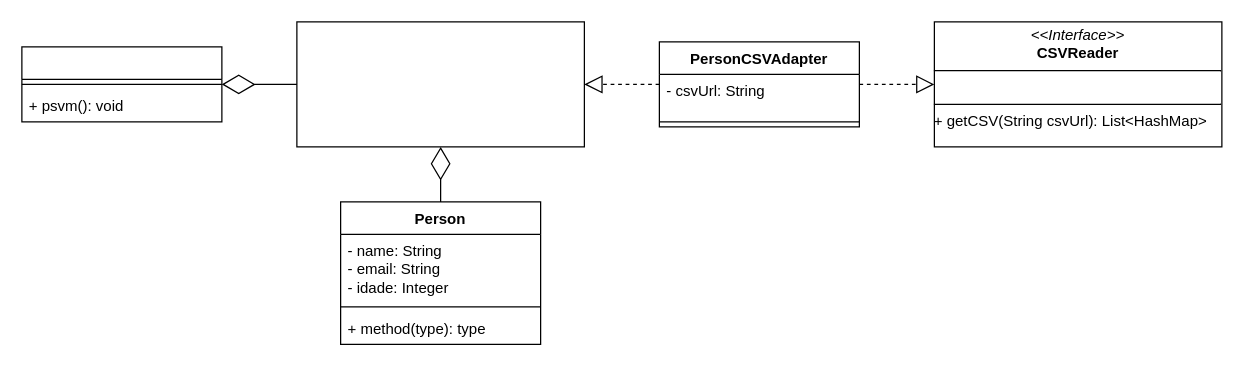
This 1244x370 diagram has some shape labels left out. Here are the shapes that lost their labels. From the top down, the box of each, then its label:
(21, 46, 222, 122): Main
(296, 21, 584, 147): <<Interface>> PeopleRepository + listPerople (): List<Person>
